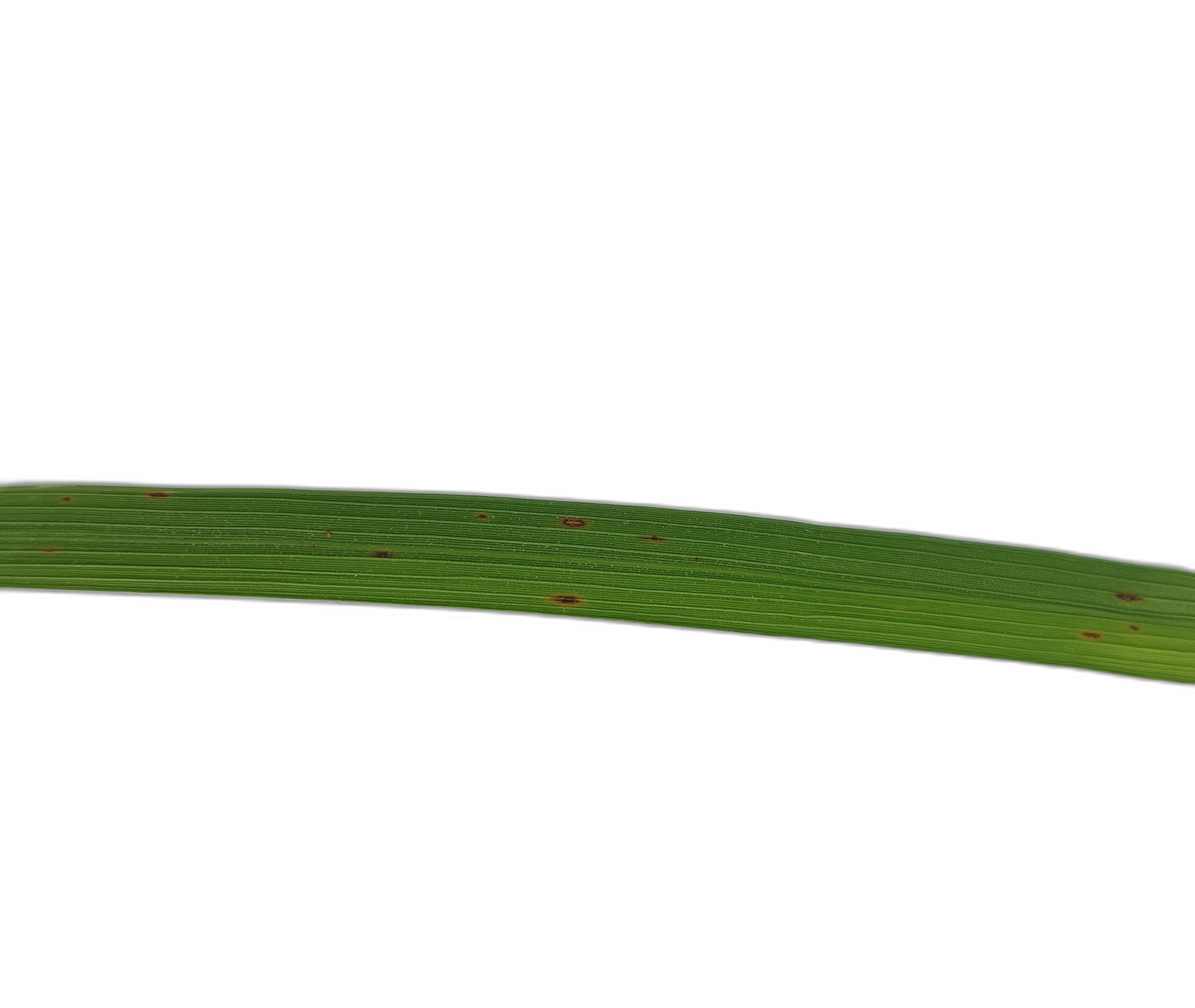LEAF: (0, 485, 1195, 683)
LEAF BLAST: (549, 594, 585, 607), (559, 516, 589, 528), (1114, 592, 1142, 603)
